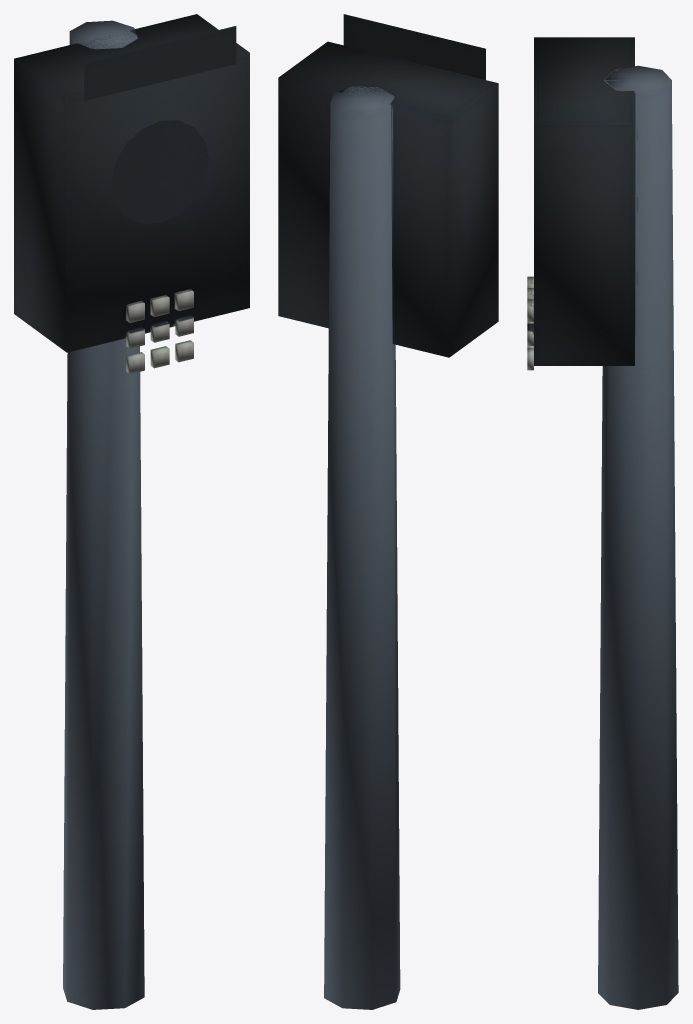
File: yard-intercom-body-tripo-original.glb
3 renders of one model, left to right at view 1: azimuth 30°, elevation 25°; view 2: azimuth 150°, elevation 25°; view 3: azimuth 270°, elevation 25°, orthographic. The views are drawn at different scales.
Visible parts, largest first — view 1: Authored_surface_064; view 2: Authored_surface_064; view 3: Authored_surface_064.
Part boxes in pixels (box(x1,y1,x2,y2)): Authored_surface_064: box(14, 14, 249, 1009); Authored_surface_064: box(278, 14, 498, 1009); Authored_surface_064: box(527, 37, 678, 1009).
Size of the model in its own units: 0.1935 by 1 by 0.1452.
Materials: 1 (1 with a texture image).
